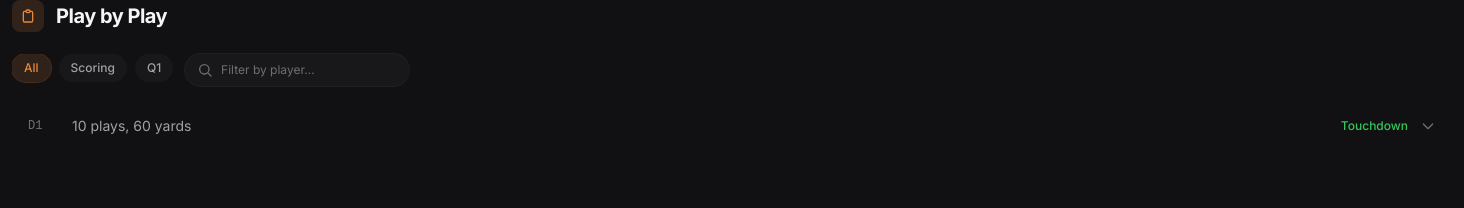
Test: PlayByPlay › NFL drives › shows drive play when drive is expanded
Expected: the text "Mahomes pass for 10 yds" is not shown
# Click the drive header to expand
What coordinates should you click on to do the following:
click the text "10 plays, 60 yards"
I would click on:
 (132, 126)
Its box is [72,117,191,134].
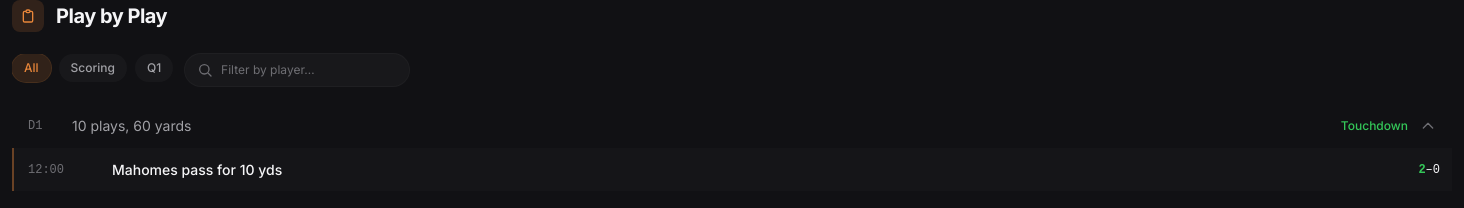
Expected: the text "Mahomes pass for 10 yds" is shown, [112,160,282,179]
